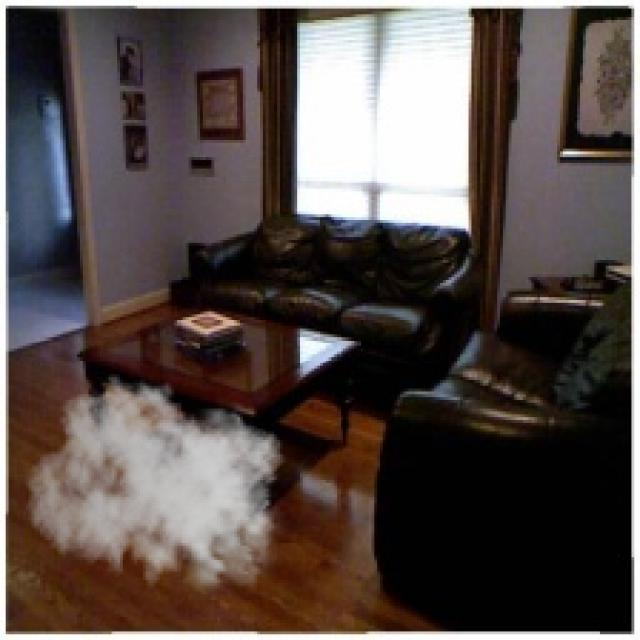Smoke: (25, 374, 292, 603)
